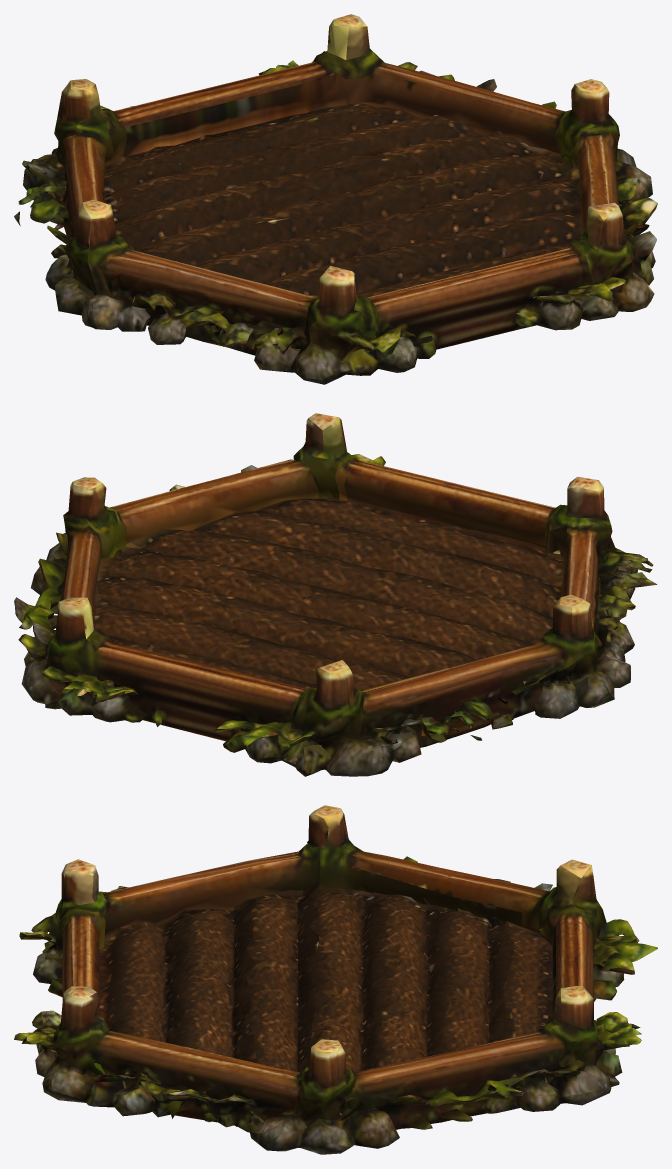
The model's file is FarmPlot.glb.
3 renders of one model, top to bottom at view 1: azimuth 30°, elevation 25°; view 2: azimuth 150°, elevation 25°; view 3: azimuth 270°, elevation 25°, orthographic. The views are drawn at different scales.
Size of the model in its own units: 1.98 by 0.3215 by 1.98.
Materials: 1 (1 with a texture image).
